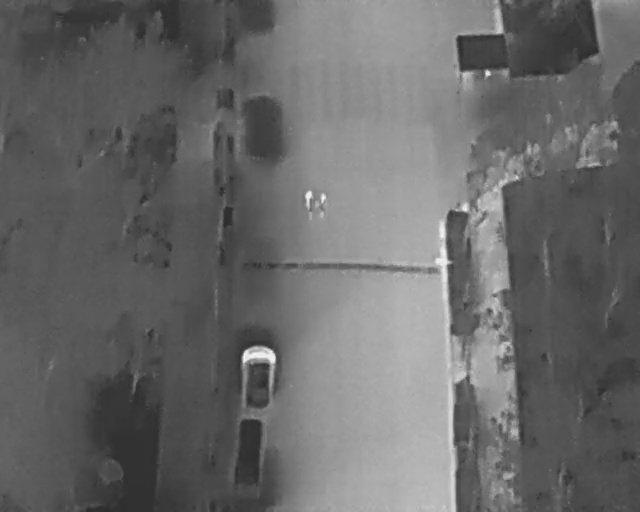Car: (228, 415, 266, 493), (239, 344, 277, 410)
Person: (304, 191, 314, 221), (317, 190, 327, 219)
